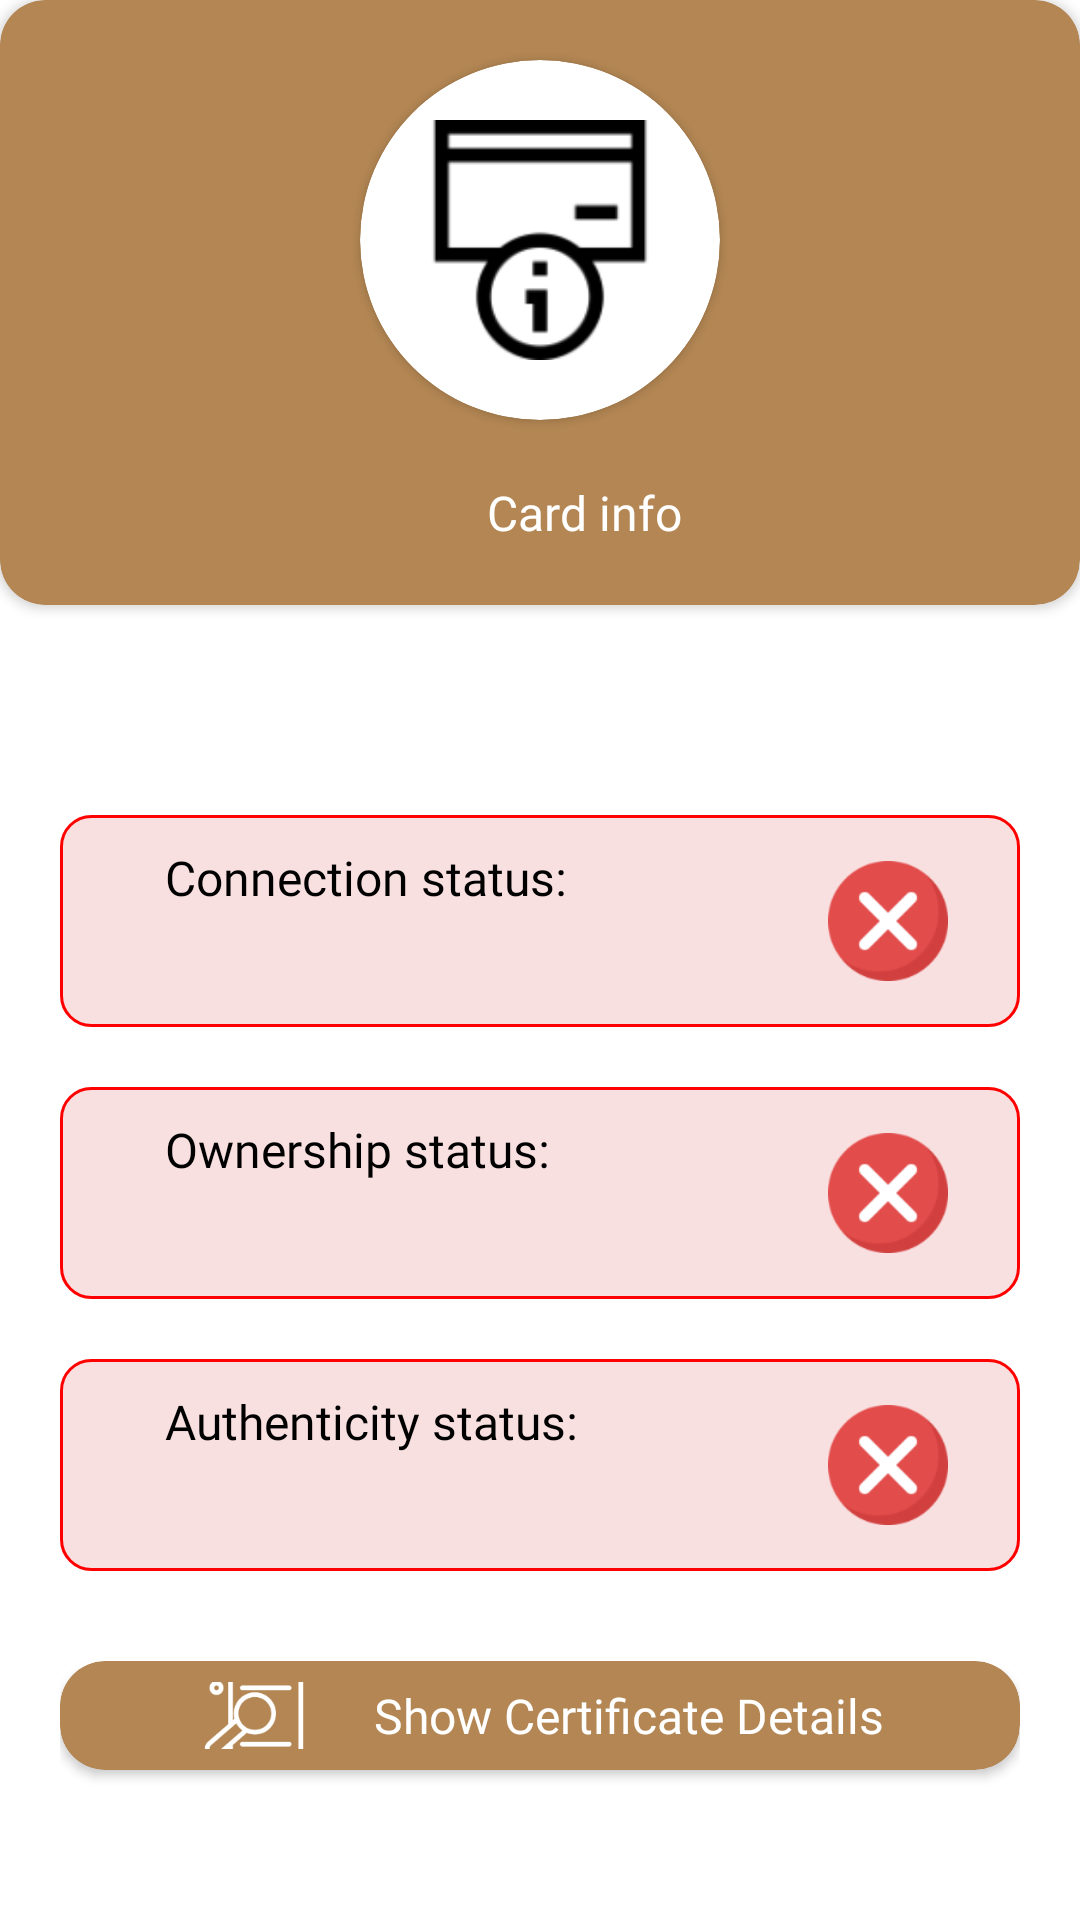

Locate icon controls on the screen. Image size 1080 × 1920, boxes as (x1, y1, x2, y2).
cancel: (828, 861, 948, 981), (828, 1133, 948, 1253), (828, 1405, 948, 1525)
